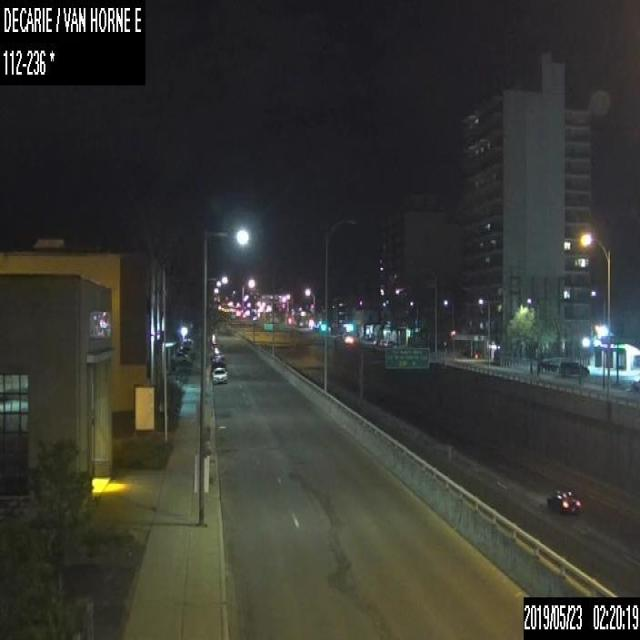vehicle: (546, 488, 582, 514), (558, 360, 589, 376), (538, 358, 558, 372), (210, 366, 226, 383), (211, 352, 225, 368), (382, 339, 393, 346)
